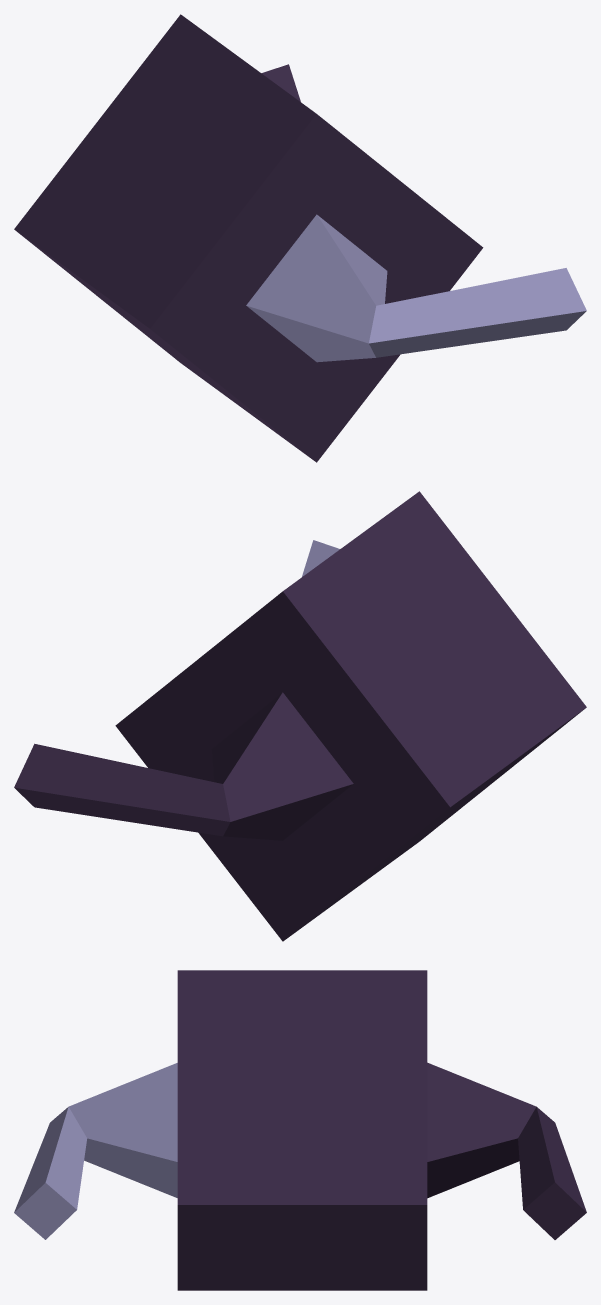
The model's file is MaçanetaPorta.fbx.
3 views of the same model, one above another, from view 1: azimuth 30°, elevation 25°; view 2: azimuth 150°, elevation 25°; view 3: azimuth 270°, elevation 25° (orthographic). The views are drawn at different scales.
Parts seen in each view (by area): view 1: Maçaneta; view 2: Maçaneta; view 3: Maçaneta.
Boxes of the visible parts, left/top/right/bottom form: Maçaneta: left=14, top=14, right=586, bottom=462; Maçaneta: left=14, top=491, right=586, bottom=941; Maçaneta: left=14, top=970, right=586, bottom=1290.
Size of the model in its own units: 0.5106 by 0.4896 by 0.7941.
